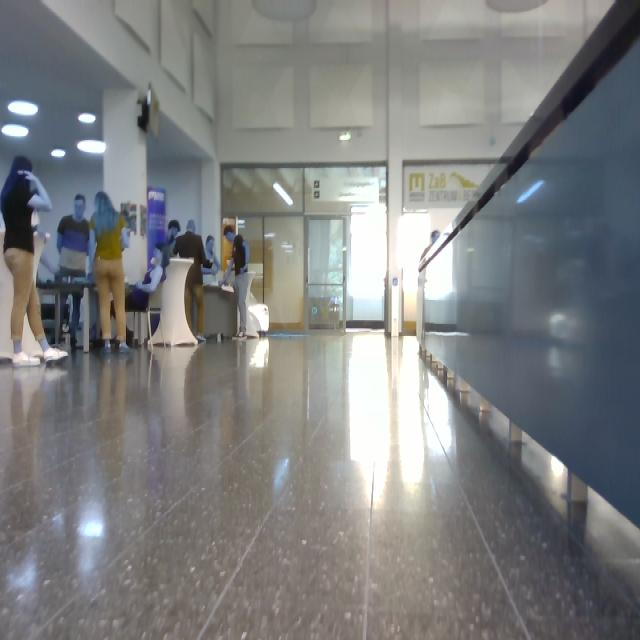light bulb: (8, 101, 38, 117), (274, 182, 293, 206), (78, 140, 106, 154), (1, 125, 29, 137), (79, 113, 96, 124), (51, 149, 65, 158), (341, 130, 351, 141)
person: (1, 157, 68, 366), (90, 193, 129, 352), (173, 221, 212, 341), (222, 226, 258, 337), (58, 194, 90, 280), (70, 288, 83, 350)
tiled floor: (1, 336, 640, 640)
